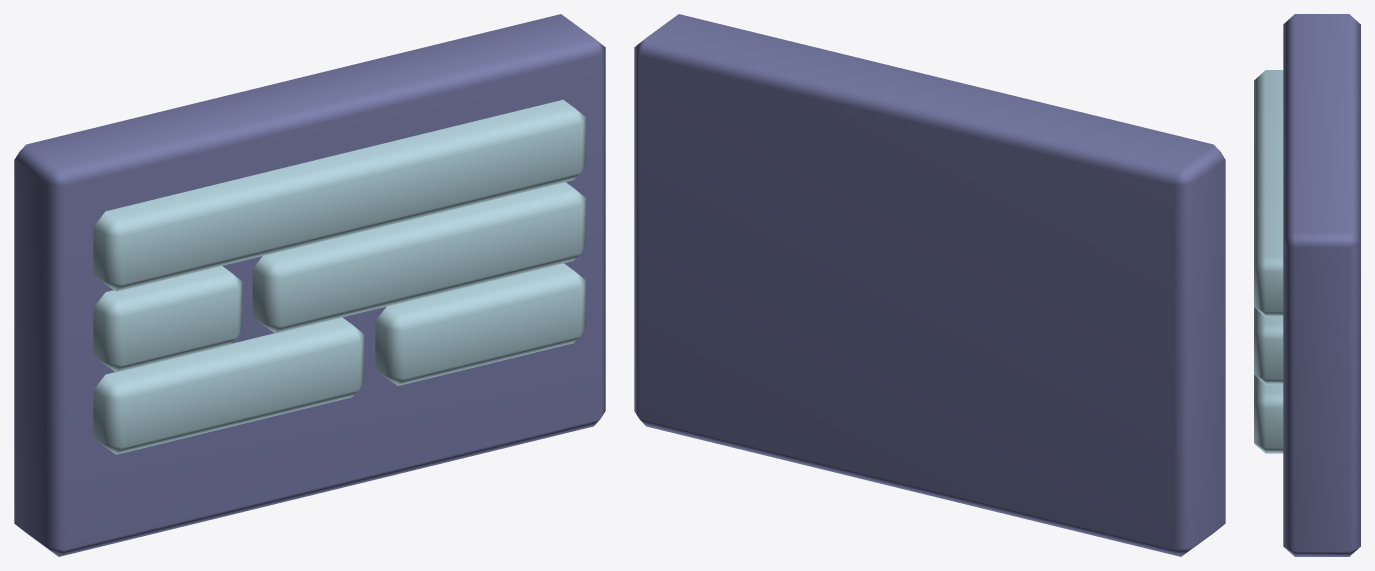
File: Note_3.glb
3 views of the same model, side by side, from view 1: azimuth 30°, elevation 25°; view 2: azimuth 150°, elevation 25°; view 3: azimuth 270°, elevation 25° (orthographic). The views are drawn at different scales.
Parts seen in each view (by area): view 1: Note_3; view 2: Note_3; view 3: Note_3.
Boxes of the visible parts, x1,y1,x2,y2 form: Note_3: (14,14,605,556); Note_3: (634,14,1225,556); Note_3: (1254,14,1360,556).
Size of the model in its own units: 0.5806 by 0.3857 by 0.1151.
Materials: 1 (1 with a texture image).
